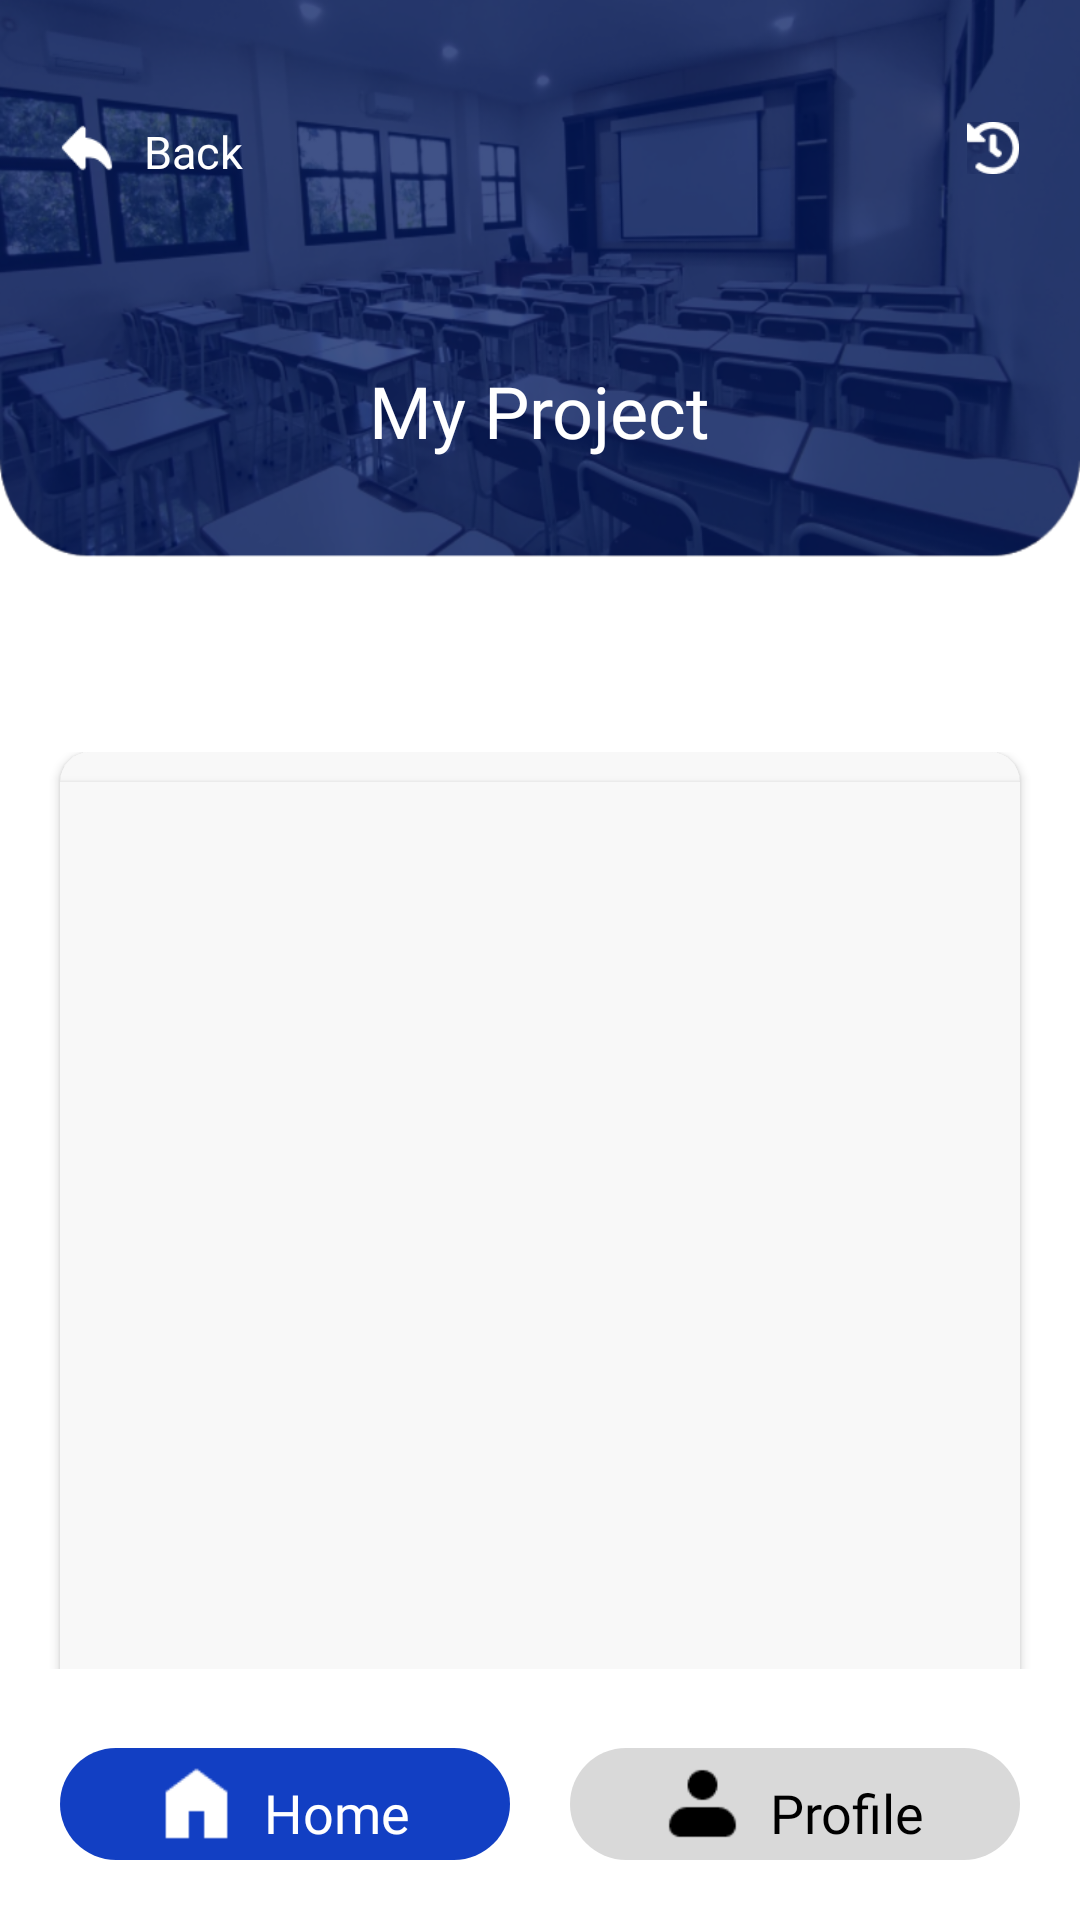

Icons on this 1080×1920 Android screen, each with the point to tap as (x,y):
kembali: (87,148)
